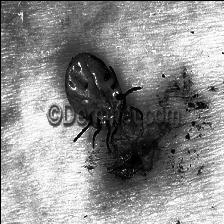Toxin: (103, 138, 164, 190)
